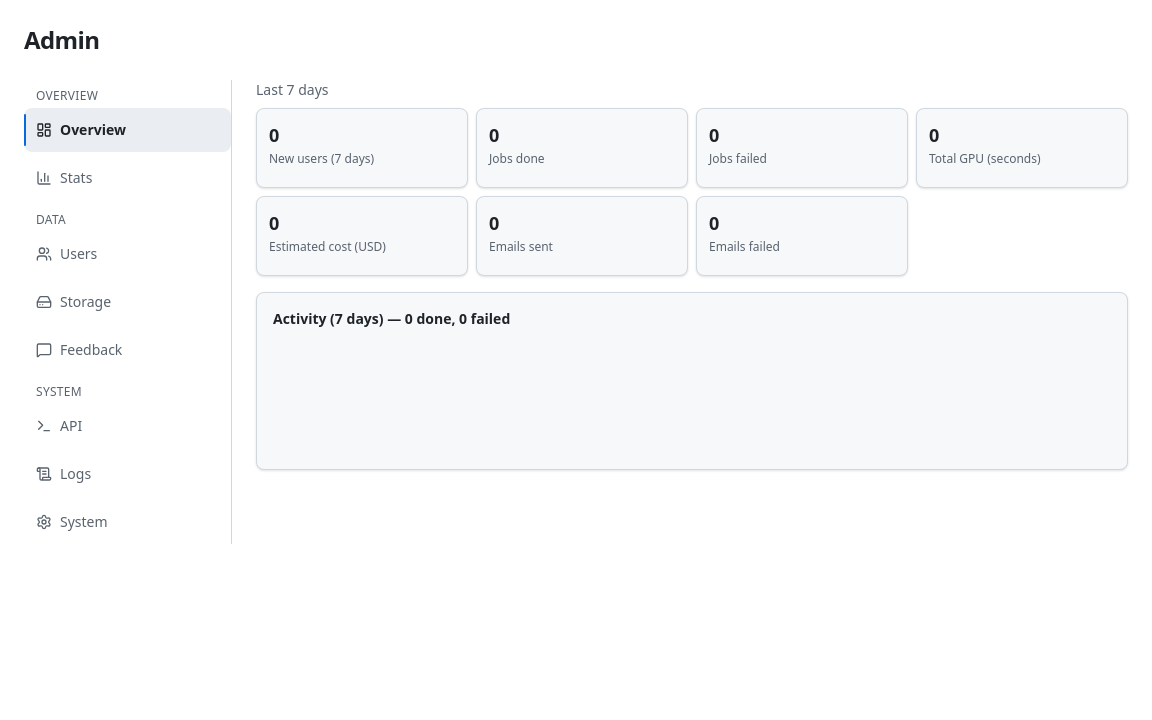
api tab aggregates paths client-side, collapsing numeric segments
The width and height of the screenshot is (1152, 720).
What coordinates should you click on to do the following:
click the button with test id "tab-api"
I would click on:
 (128, 426)
Its box is [24,404,231,448].
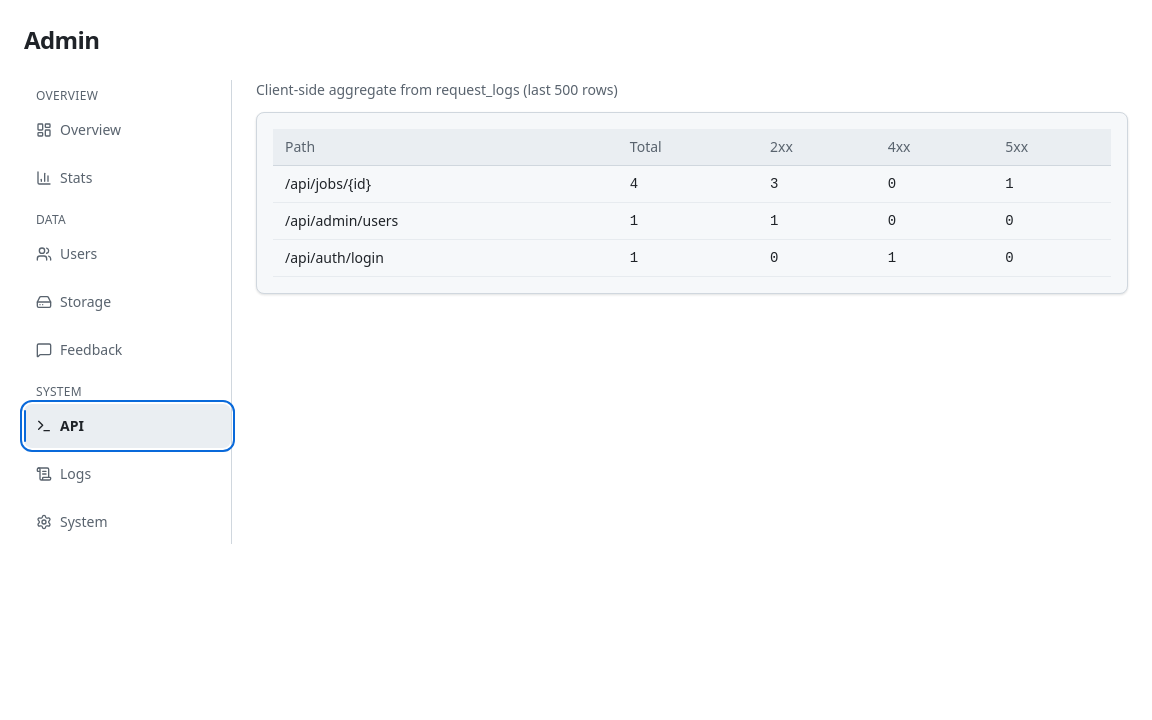
Now the text "Client-side aggregate from request_logs (last 500 rows)" is shown, box [256,80,618,99]
Now the text "/api/jobs/{id}" is shown, box [273,166,618,202]
Now the text "4" is shown, box [618,166,758,202]
